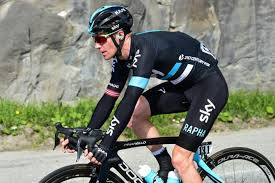helmet: (80, 1, 135, 64)
